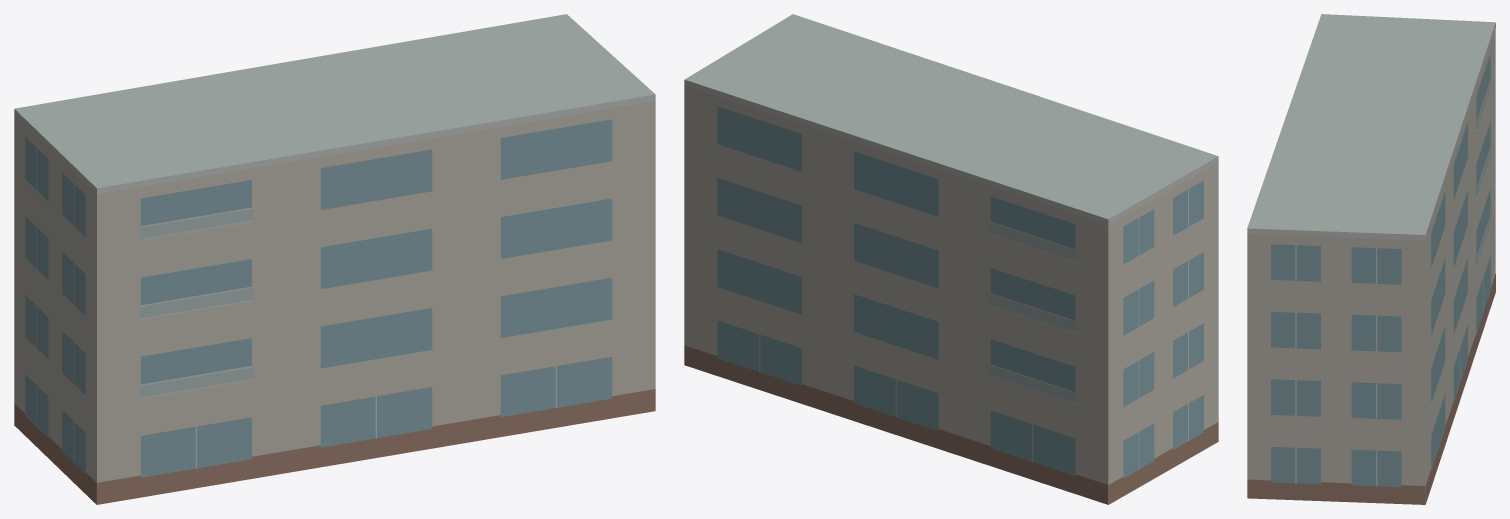
File: survey-upis-32970658.glb
3 renders of one model, left to right at view 1: azimuth 30°, elevation 25°; view 2: azimuth 150°, elevation 25°; view 3: azimuth 270°, elevation 25°, orthographic. The views are drawn at different scales.
Visible parts, largest first — view 1: survey-upis-32970658.tmp; view 2: survey-upis-32970658.tmp; view 3: survey-upis-32970658.tmp.
Part boxes in pixels (x1,y1,x2,y2): survey-upis-32970658.tmp: (14,14,655,504); survey-upis-32970658.tmp: (684,14,1218,504); survey-upis-32970658.tmp: (1247,14,1495,504).
Size of the model in its own units: 21.34 by 12.15 by 10.15.
